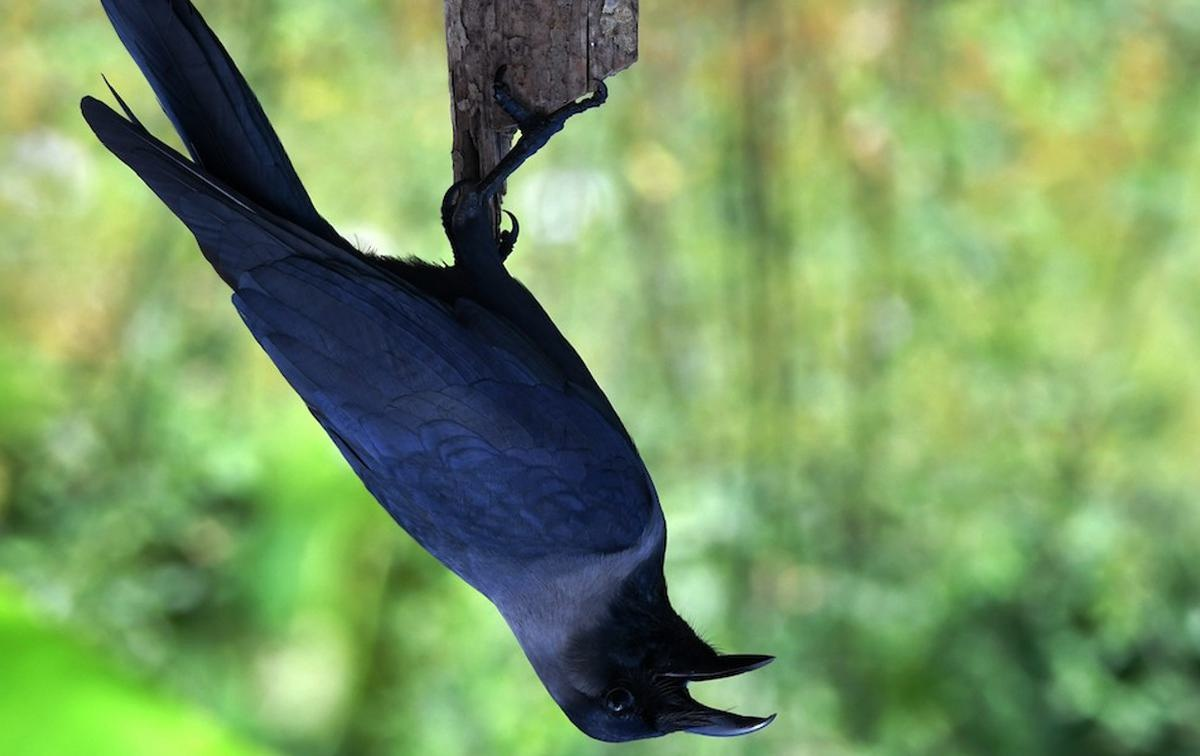crow: (64, 1, 793, 750)
